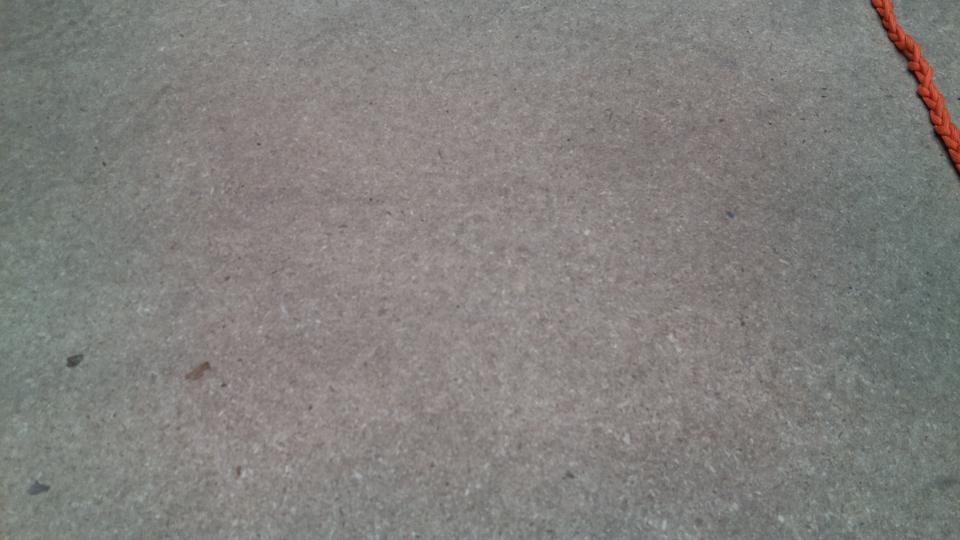rope: (866, 1, 960, 173)
